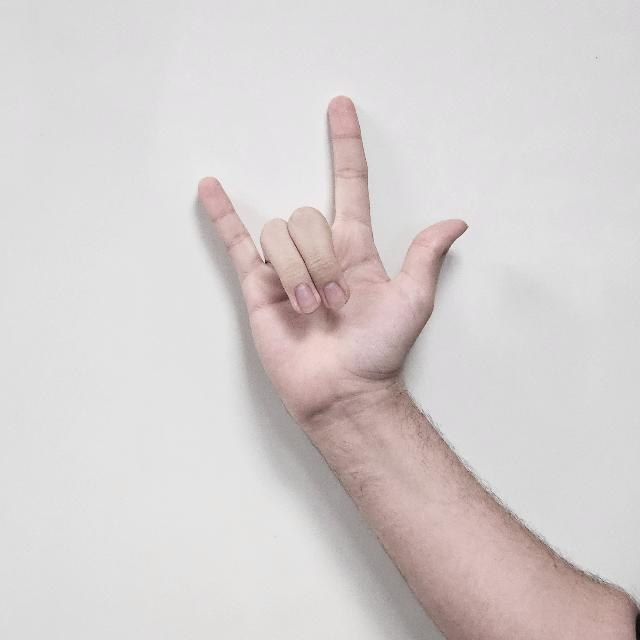Cima: (183, 92, 473, 416)
